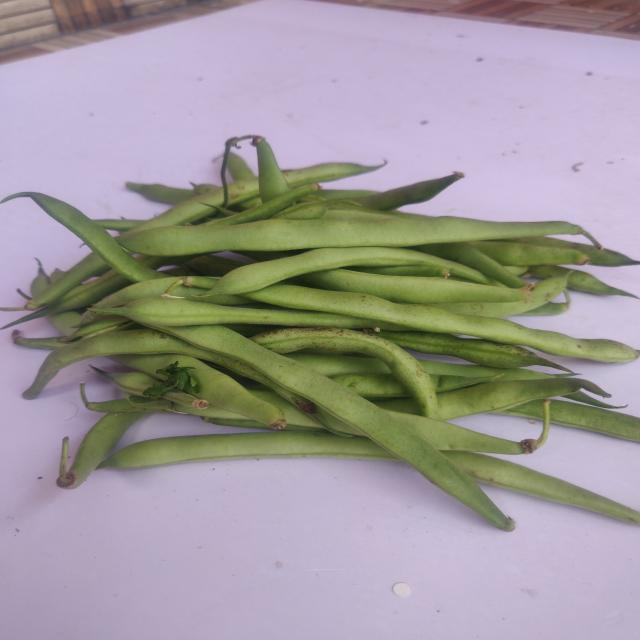Beans: (156, 325, 515, 531), (245, 284, 640, 363), (115, 216, 582, 256), (250, 328, 438, 418), (97, 432, 399, 469), (99, 297, 386, 329)
